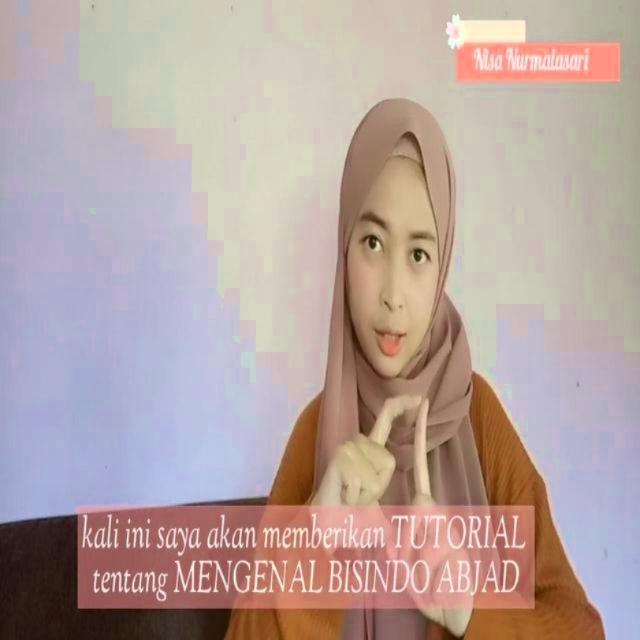D: (334, 381, 462, 578)
